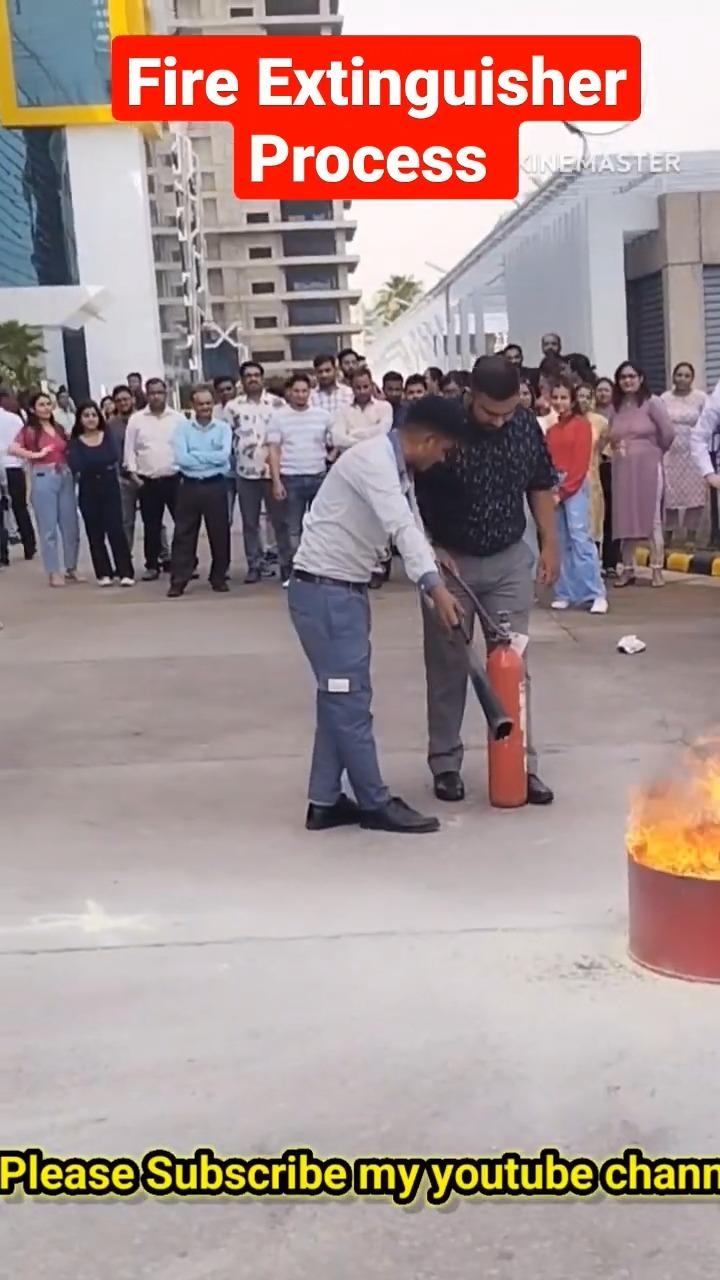FireExtinguisher: (470, 621, 549, 804)
